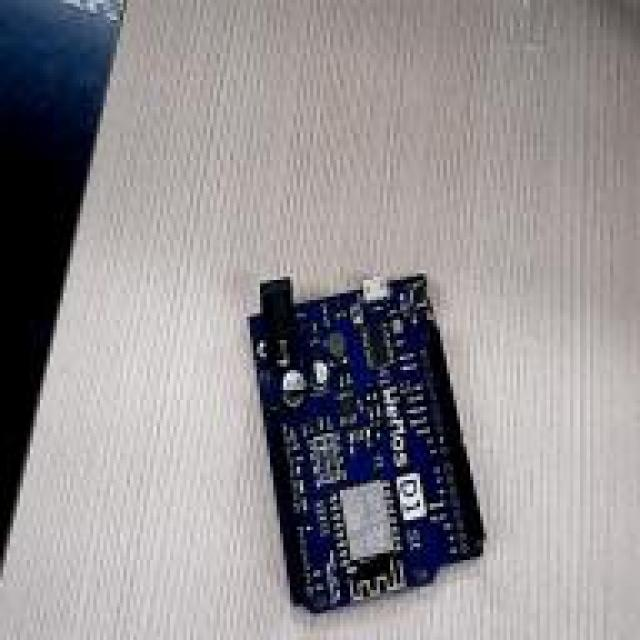Wemos: (251, 274, 481, 611)
